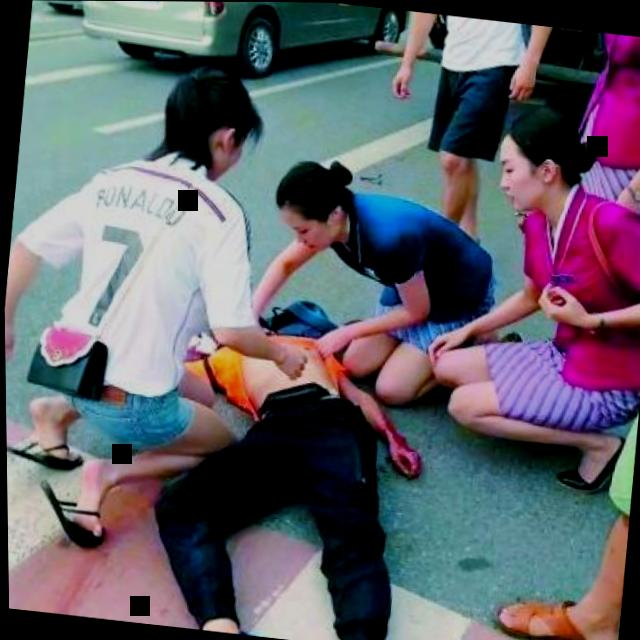Fall-Detected: (129, 282, 449, 640)
